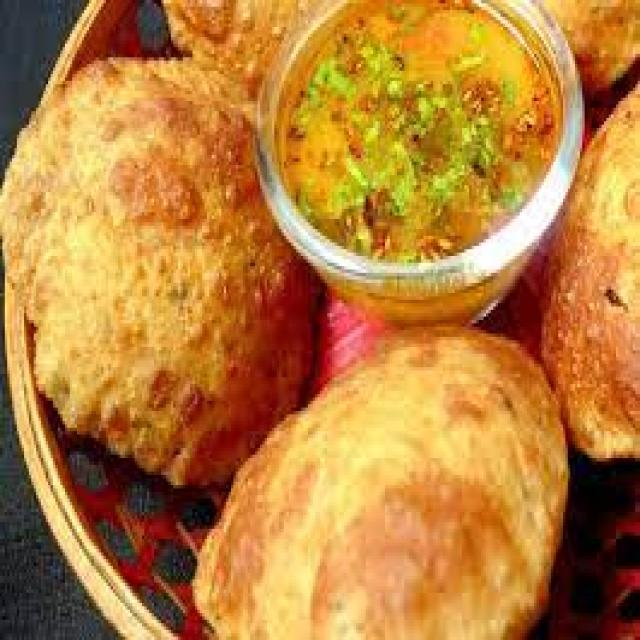CURRY: (280, 0, 562, 261)
POORI: (0, 0, 638, 637)
